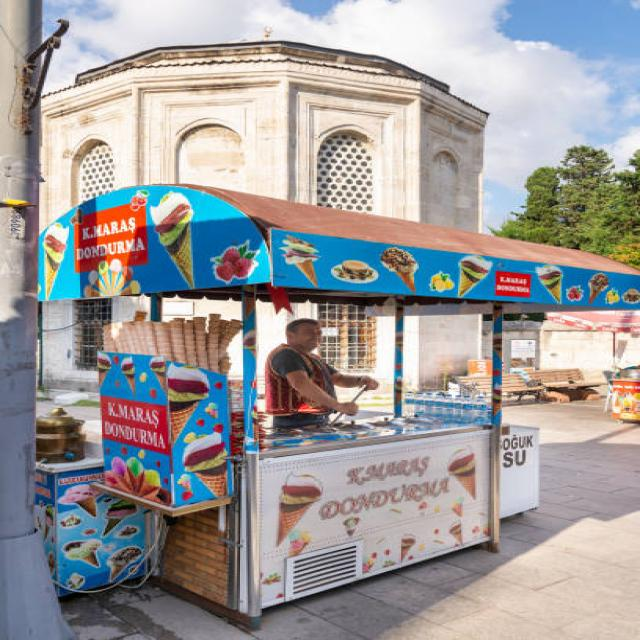Emperan: (31, 181, 640, 632)
